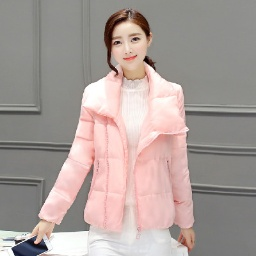face: (100, 7, 169, 79)
